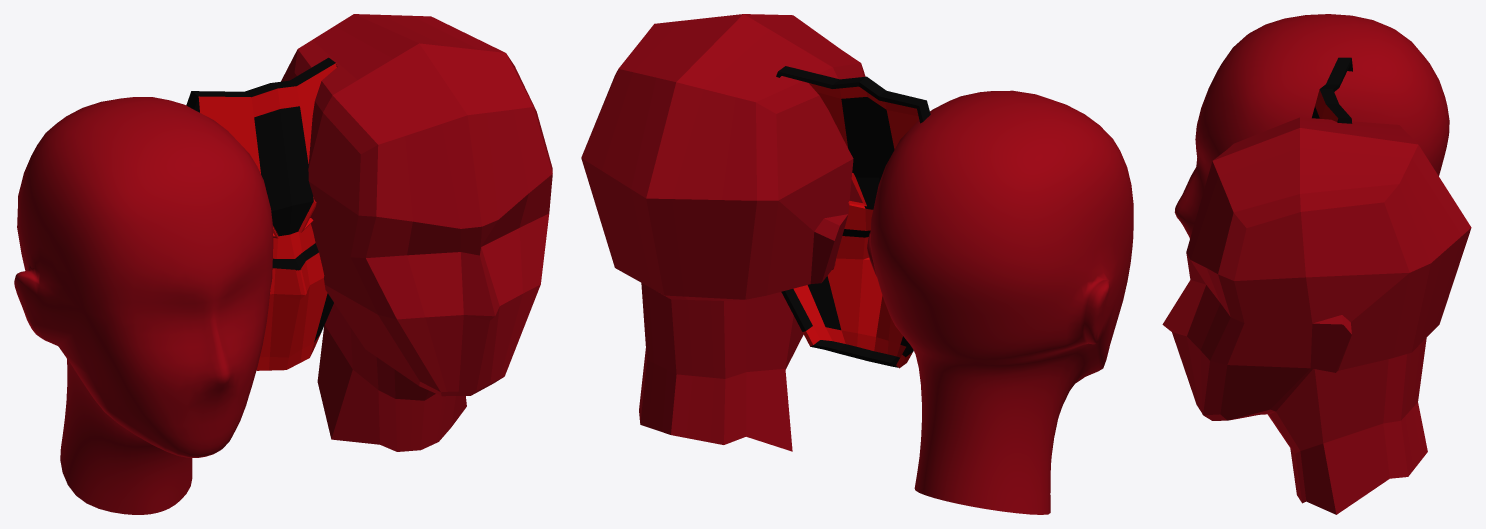
File: Lowpoly-Mask.fbx
3 views of the same model, side by side, from view 1: azimuth 30°, elevation 25°; view 2: azimuth 150°, elevation 25°; view 3: azimuth 270°, elevation 25° (orthographic). The views are drawn at different scales.
Parts seen in each view (by area): view 1: Cube, Cube.001, Cube.002; view 2: Cube, Cube.001, Cube.002; view 3: Cube, Cube.001, Cube.002.
Part boxes in pixels (box(x1,y1,x2,y2)): Cube: box(281, 14, 552, 451); Cube.001: box(14, 97, 273, 514); Cube.002: box(186, 57, 337, 370); Cube: box(581, 14, 865, 451); Cube.001: box(867, 90, 1133, 514); Cube.002: box(776, 66, 930, 368); Cube: box(1162, 117, 1471, 514); Cube.001: box(1174, 14, 1449, 238); Cube.002: box(1312, 57, 1352, 123).
Size of the model in its own units: 383 by 300 by 228.
